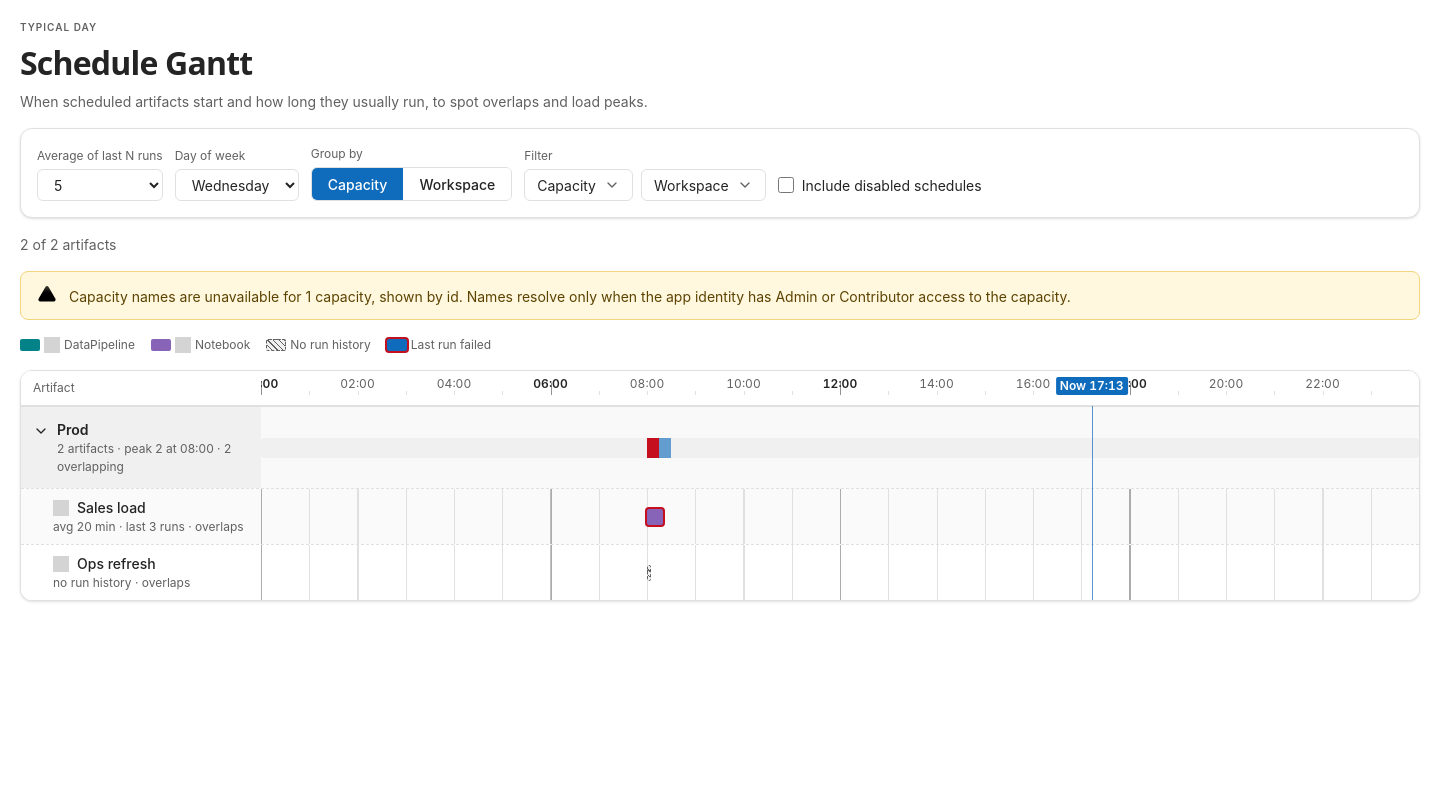
Test: Gantt bar tooltip › explains placeholder bars without run history
The width and height of the screenshot is (1440, 810).
Focus the picture named "Ops refresh: 08:00". click: (649, 572)
box: [647,564,651,580]
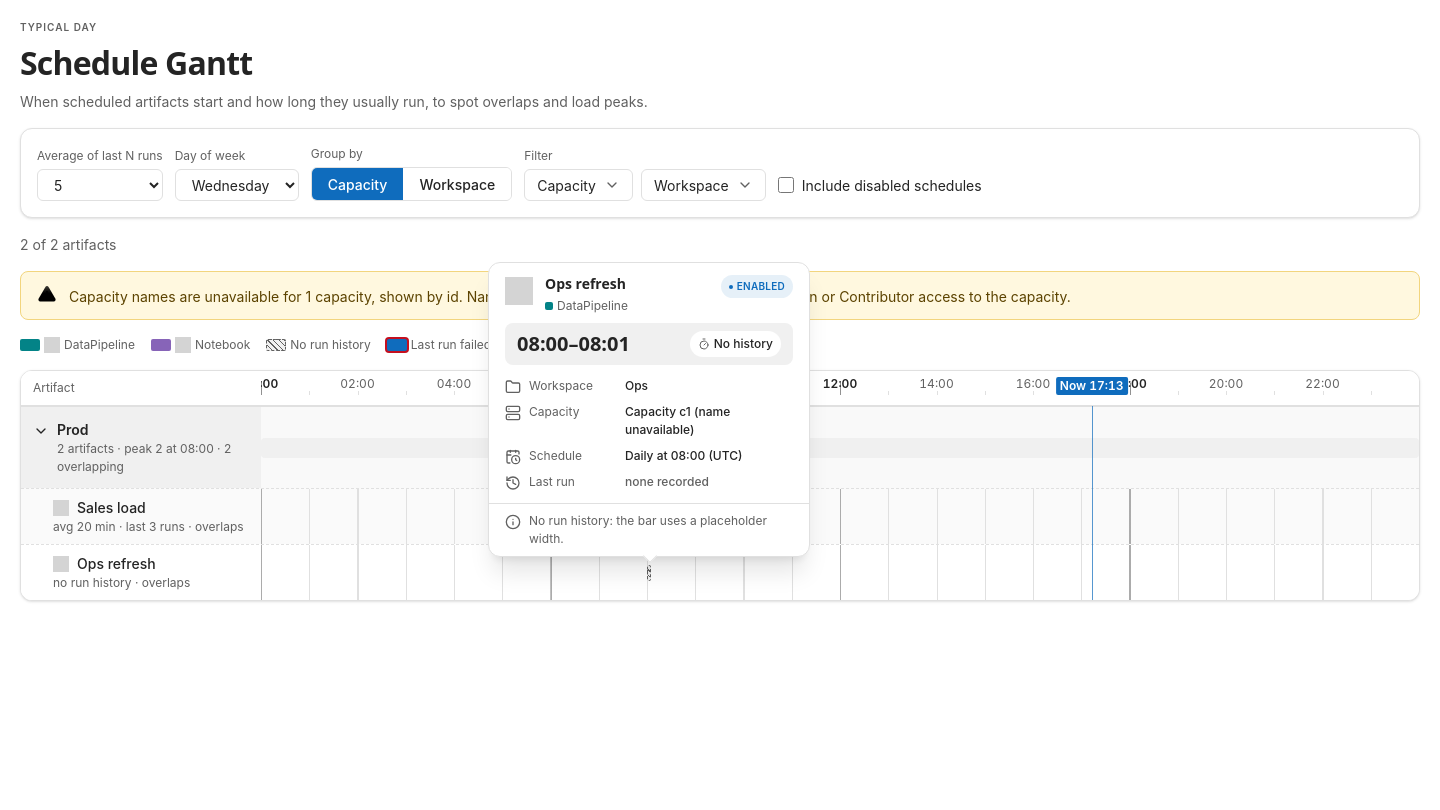
Expected: the text "No run history: the bar uses a placeholder width." is shown, [529,512,793,548]
Expected: the text "none recorded" is shown, [625,474,709,488]
Expected: the text "Capacity c1 (name unavailable)" is shown, [625,404,730,436]
